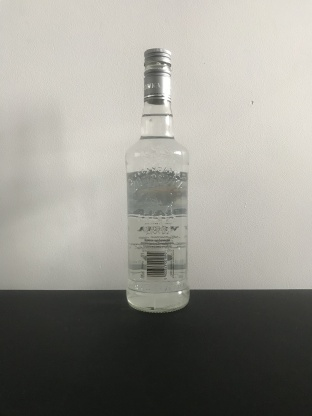nakretka: (142, 46, 173, 104)
